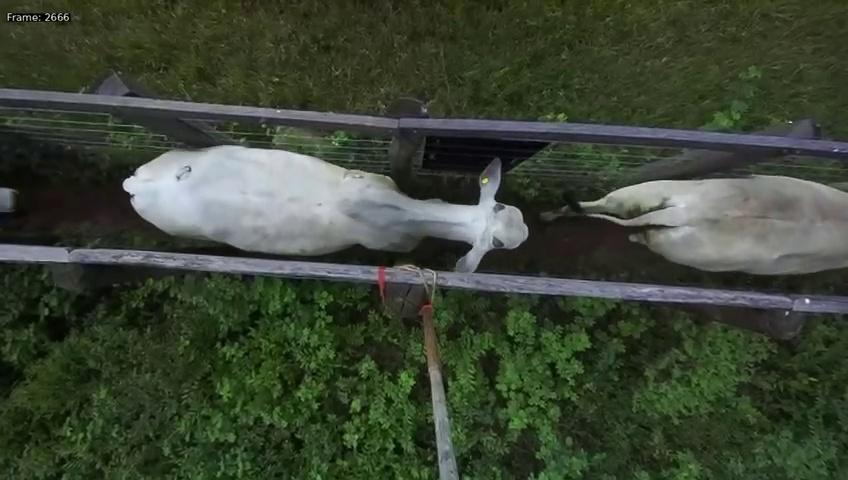cattle: (127, 135, 530, 272)
